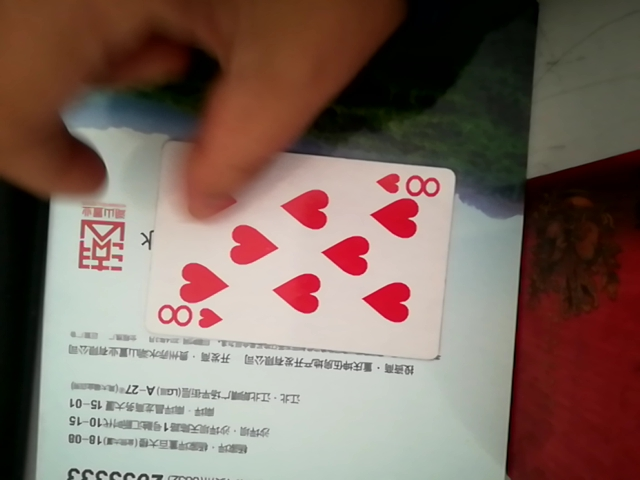hx 8: (140, 156, 453, 364)
